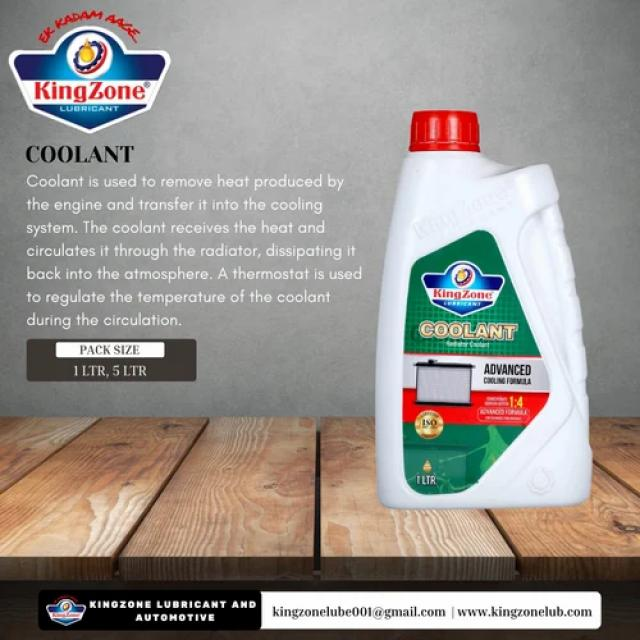coolant: (373, 108, 598, 510)
